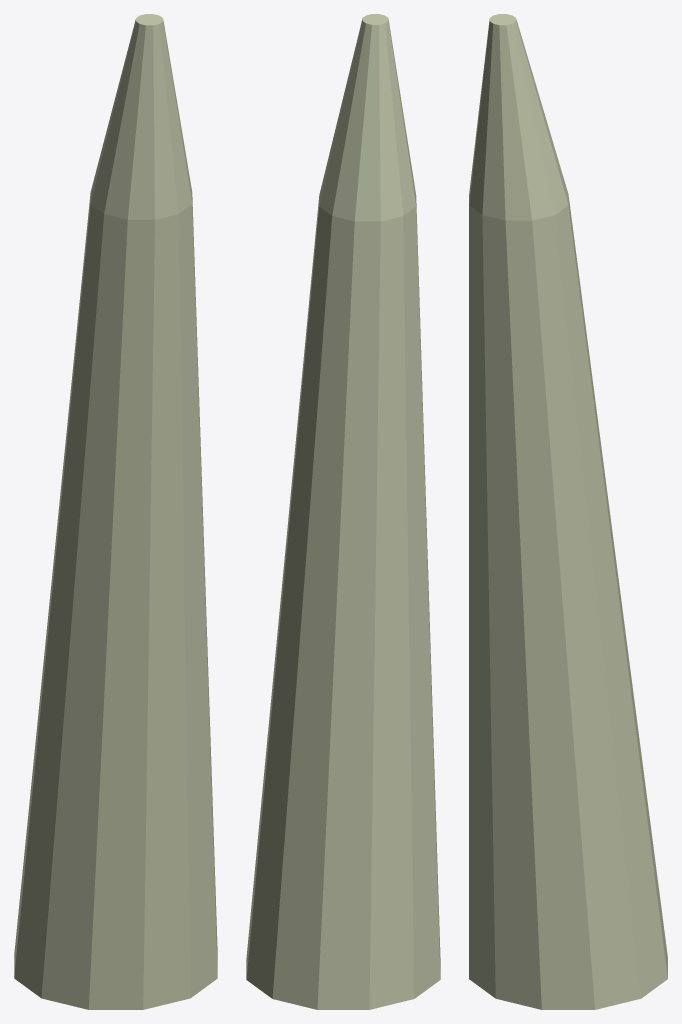
Rendered from tantares_lv_booster_fuel_tank_s1p5_1_collider.obj.
3 renders of one model, left to right at view 1: azimuth 30°, elevation 25°; view 2: azimuth 150°, elevation 25°; view 3: azimuth 270°, elevation 25°, orthographic. The views are drawn at different scales.
Visible parts, largest first — view 1: tantares_lv_booster_fuel_tank_s1p5_1_collider; view 2: tantares_lv_booster_fuel_tank_s1p5_1_collider; view 3: tantares_lv_booster_fuel_tank_s1p5_1_collider.
Boxes of the visible parts, x1,y1,x2,y2 form: tantares_lv_booster_fuel_tank_s1p5_1_collider: (14,14,217,1009); tantares_lv_booster_fuel_tank_s1p5_1_collider: (246,14,440,1009); tantares_lv_booster_fuel_tank_s1p5_1_collider: (469,14,667,1009).
Size of the model in its own units: 1.88 by 9.88 by 1.88.
